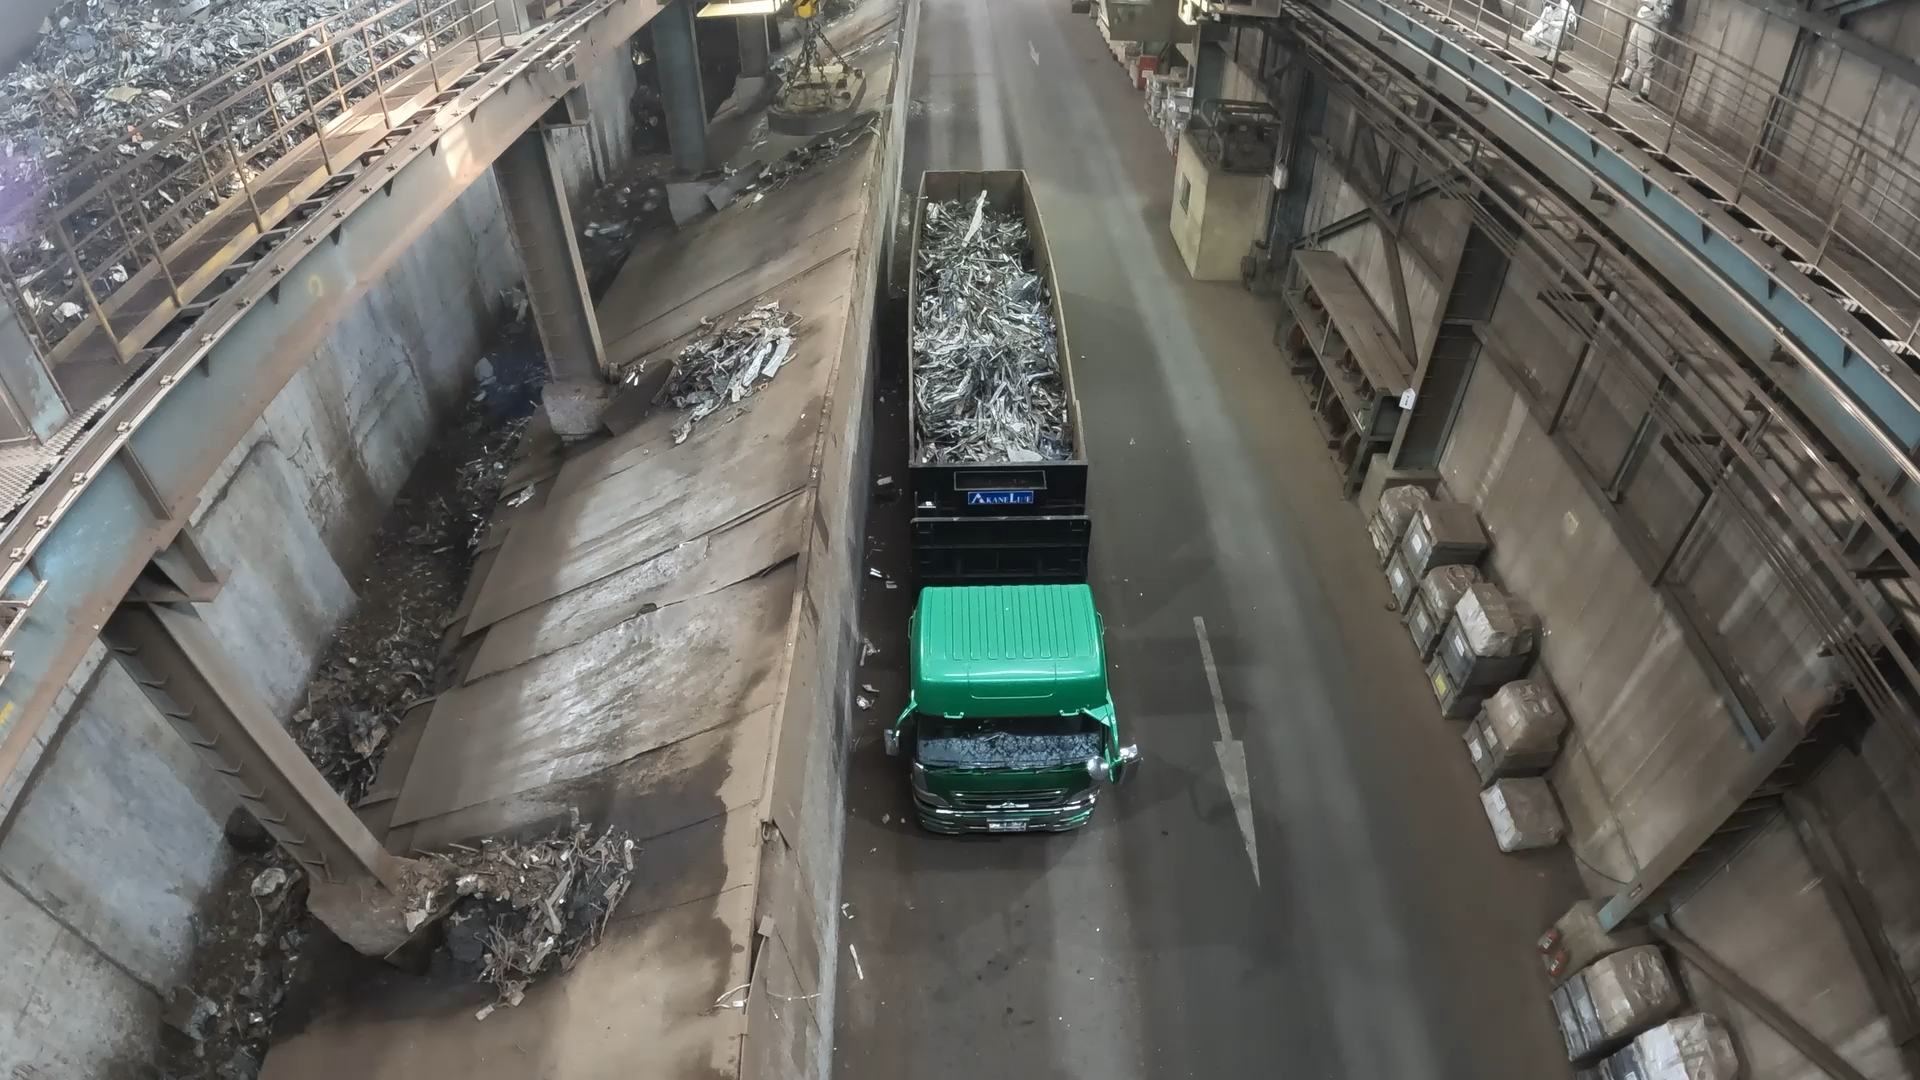truck: (909, 170, 1087, 465)
